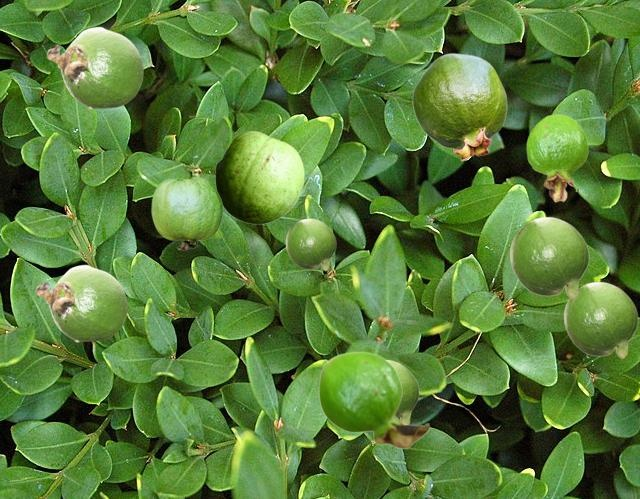guava: (318, 351, 429, 448), (412, 53, 506, 160), (215, 131, 303, 223), (46, 26, 143, 108), (35, 264, 127, 341), (509, 216, 588, 298), (563, 281, 637, 358), (526, 114, 587, 201), (151, 177, 222, 249), (285, 218, 335, 270), (387, 359, 418, 423)
